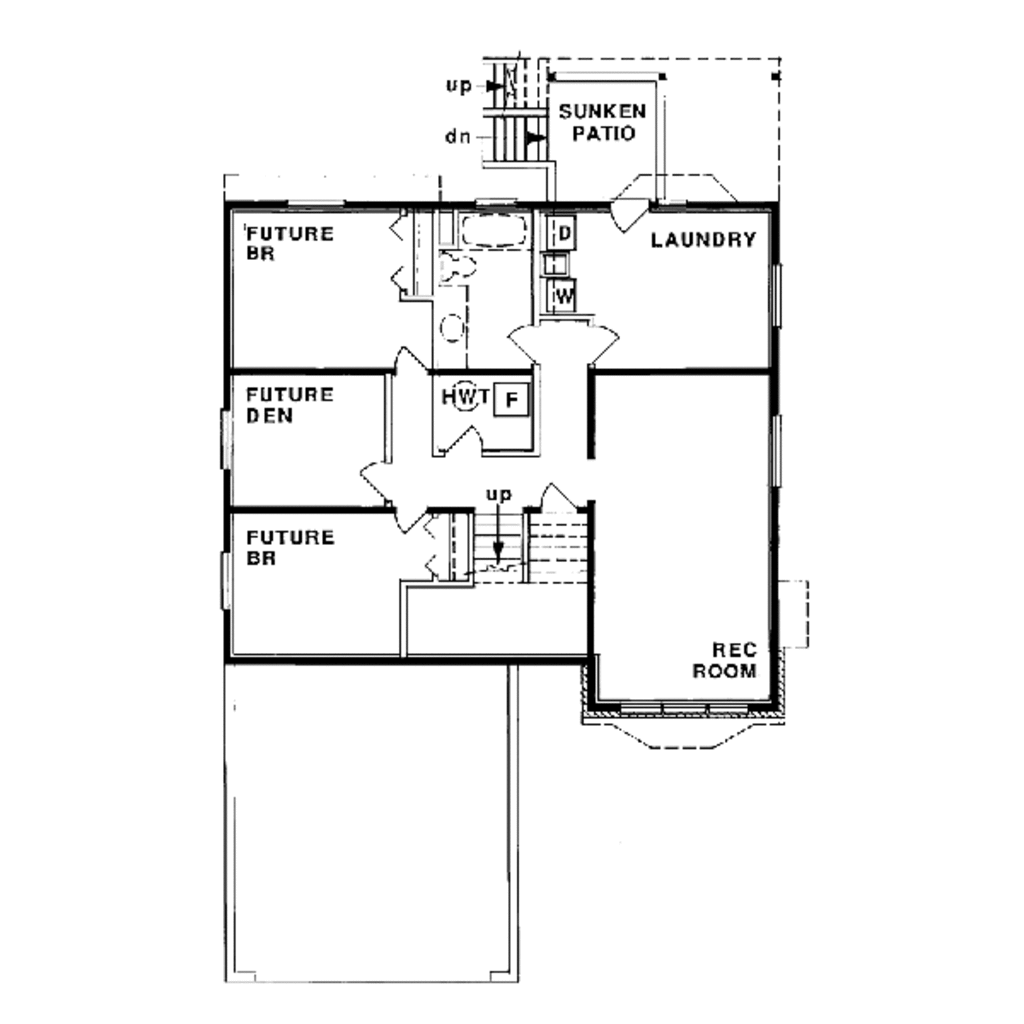door: (436, 419, 534, 463), (395, 503, 463, 558), (486, 314, 550, 371), (605, 185, 673, 238), (359, 447, 405, 503), (369, 336, 436, 371), (589, 319, 633, 366)
large_sink: (420, 246, 489, 289)
small_sink: (436, 297, 475, 363)
stairs: (466, 49, 581, 180), (478, 513, 598, 594)
tub: (464, 207, 539, 253)
window: (209, 392, 247, 475), (214, 541, 247, 617), (756, 257, 786, 336), (766, 407, 788, 494), (270, 196, 356, 214)
